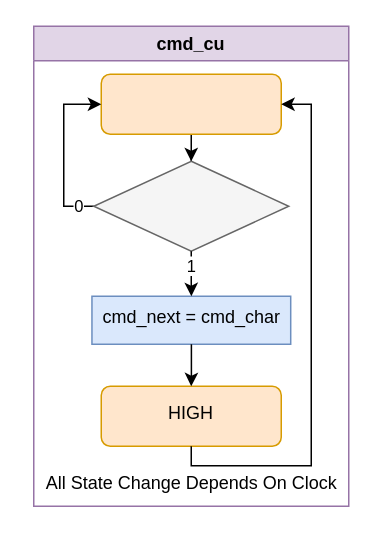
This 381x533 diagram has some shape labels left out. The box of each missing label's shape, as (x1, y1, x2, y2) in pixels:
cmd_reg != cmd_char: (92, 160, 289, 251)
LOW: (100, 73, 281, 134)
